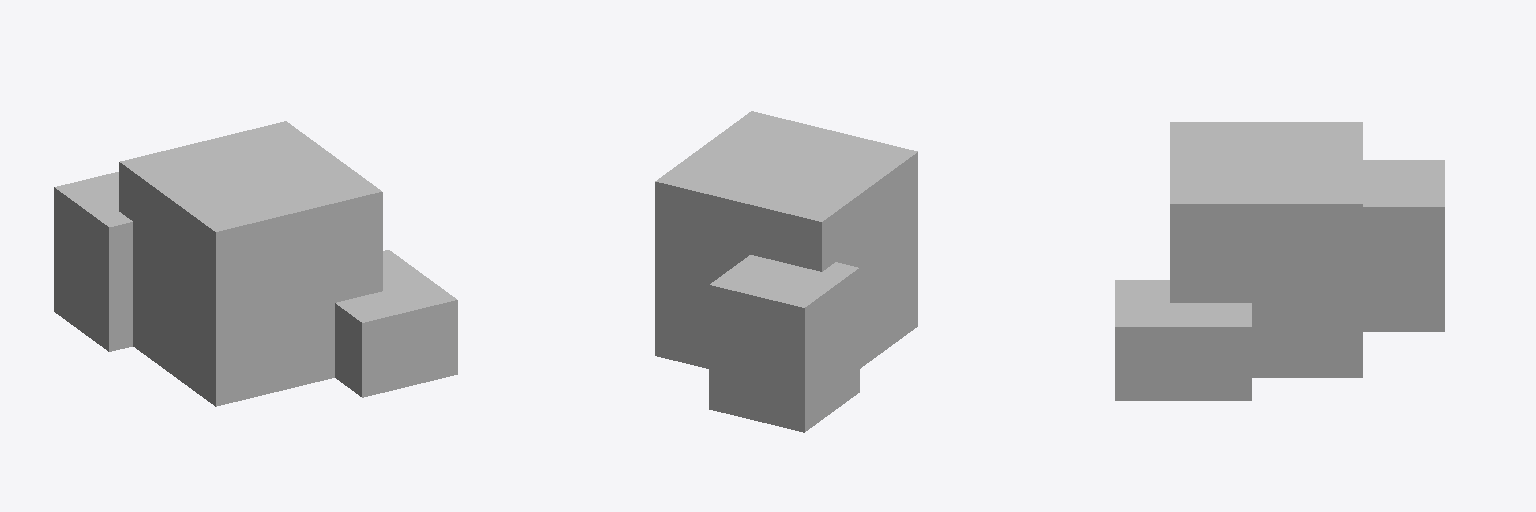
The model's file is rock.obj.
3 renders of one model, left to right at view 1: azimuth 30°, elevation 25°; view 2: azimuth 150°, elevation 25°; view 3: azimuth 270°, elevation 25°, orthographic.
Visible parts, largest first — view 1: object 1; view 2: object 1; view 3: object 1.
Part boxes in pixels (left/top/right/bottom): object 1: left=54, top=121, right=457, bottom=406; object 1: left=655, top=111, right=917, bottom=432; object 1: left=1115, top=122, right=1444, bottom=400.
Bounding box in the file's own units: 1 × 0.7 × 1.2.